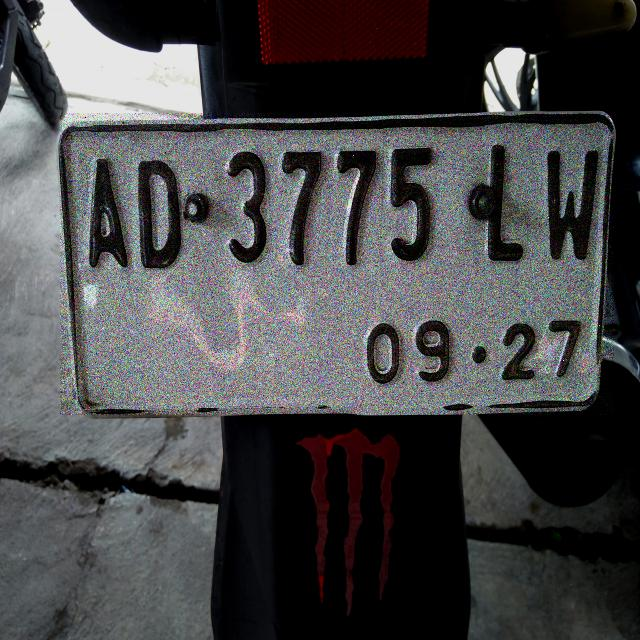plate: (60, 114, 613, 414)
